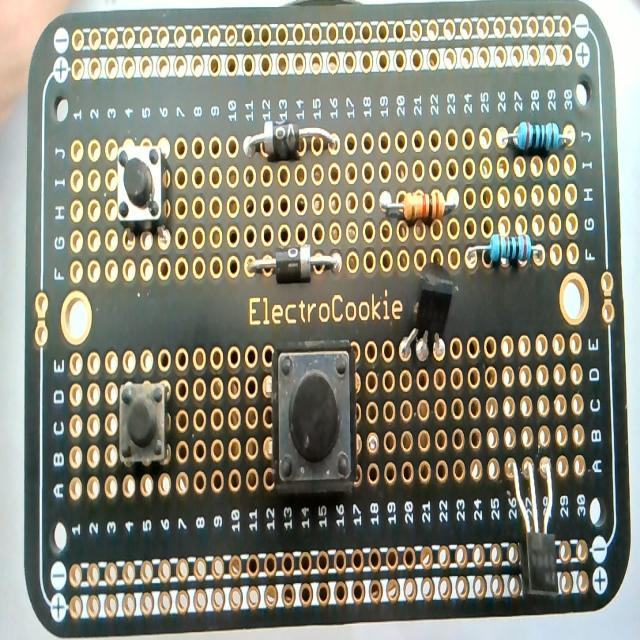diode: (242, 118, 340, 160), (248, 245, 342, 280)
resistor: (378, 188, 457, 224), (467, 234, 544, 268), (496, 120, 573, 153)
switch: (270, 342, 356, 491), (117, 143, 168, 235), (118, 378, 170, 468)
transistor: (494, 456, 570, 607), (391, 258, 461, 358)
